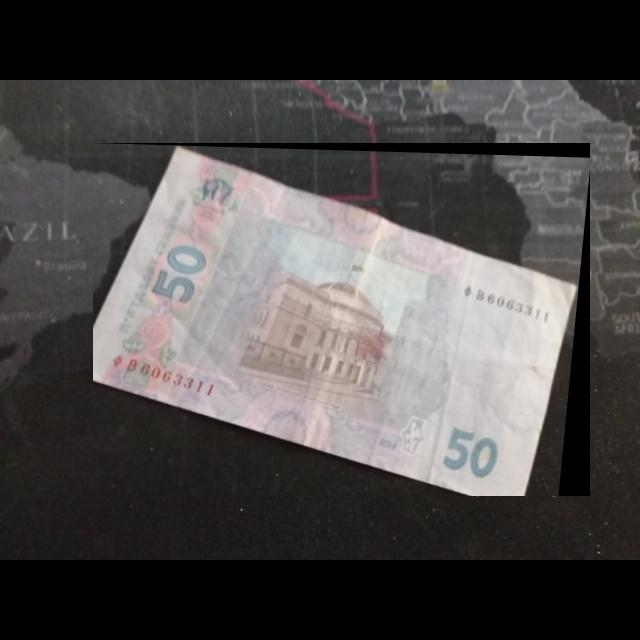50uah: (93, 145, 582, 497)
